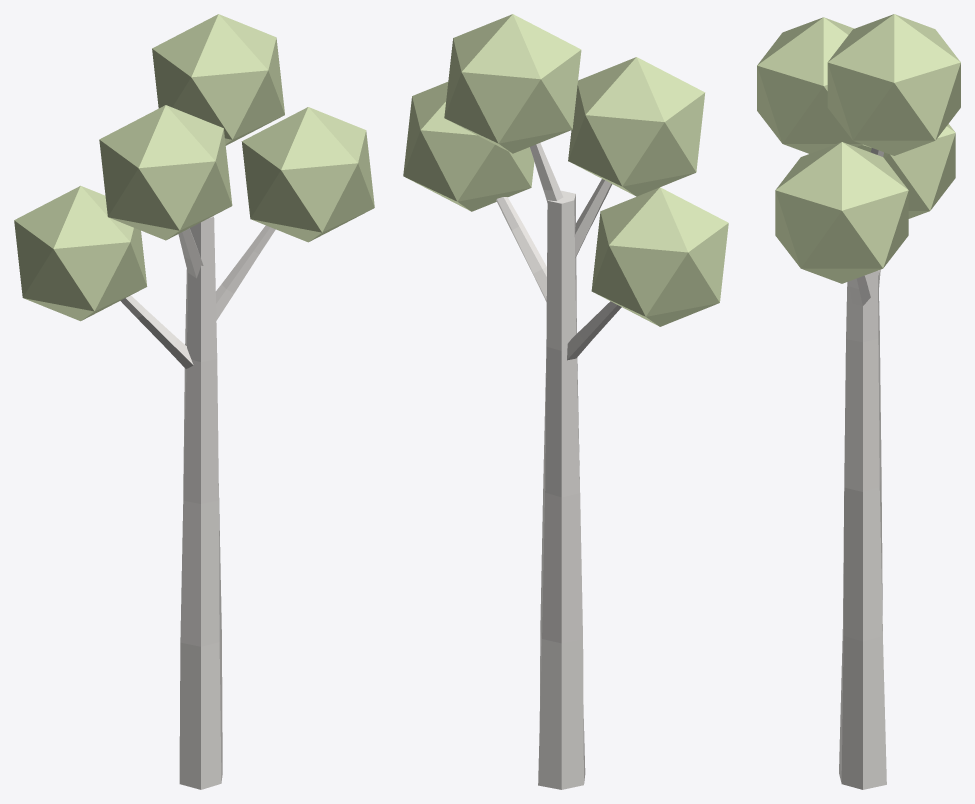
File: 29_Birch.glb
3 renders of one model, left to right at view 1: azimuth 30°, elevation 25°; view 2: azimuth 150°, elevation 25°; view 3: azimuth 270°, elevation 25°, orthographic. The views are drawn at different scales.
Visible parts, largest first — view 1: Birch_Trunk, Birch_Foliage2, Birch_Foliage3, Birch_Foliage1, Birch_Foliage4, Birch_Branch2, Birch_Branch1, Birch_Branch3; view 2: Birch_Trunk, Birch_Foliage1, Birch_Foliage4, Birch_Foliage3, Birch_Foliage2, Birch_Branch2, Birch_Branch1, Birch_Branch3, Birch_Branch4; view 3: Birch_Trunk, Birch_Foliage4, Birch_Foliage2, Birch_Foliage3, Birch_Foliage1, Birch_Branch2.
Part boxes in pixels (bbox=[...]): Birch_Trunk: bbox=[179, 216, 222, 789]; Birch_Foliage2: bbox=[241, 107, 374, 242]; Birch_Foliage3: bbox=[99, 105, 232, 240]; Birch_Foliage1: bbox=[14, 185, 147, 321]; Birch_Foliage4: bbox=[152, 14, 284, 145]; Birch_Branch2: bbox=[215, 225, 275, 320]; Birch_Branch1: bbox=[120, 295, 193, 368]; Birch_Branch3: bbox=[178, 228, 203, 278]; Birch_Trunk: bbox=[538, 190, 585, 789]; Birch_Foliage1: bbox=[591, 187, 728, 326]; Birch_Foliage4: bbox=[444, 14, 581, 153]; Birch_Foliage3: bbox=[568, 57, 705, 196]; Birch_Foliage2: bbox=[403, 82, 534, 211]; Birch_Branch2: bbox=[496, 197, 546, 301]; Birch_Branch1: bbox=[567, 301, 621, 360]; Birch_Branch3: bbox=[575, 179, 612, 257]; Birch_Branch4: bbox=[530, 143, 563, 202]; Birch_Trunk: bbox=[839, 270, 886, 789]; Birch_Foliage4: bbox=[827, 14, 960, 155]; Birch_Foliage2: bbox=[775, 142, 908, 283]; Birch_Foliage3: bbox=[757, 17, 862, 153]; Birch_Foliage1: bbox=[856, 124, 955, 218]; Birch_Branch2: bbox=[849, 275, 870, 305].
Size of the model in its own units: 1.49 by 3.3 by 0.7804.
